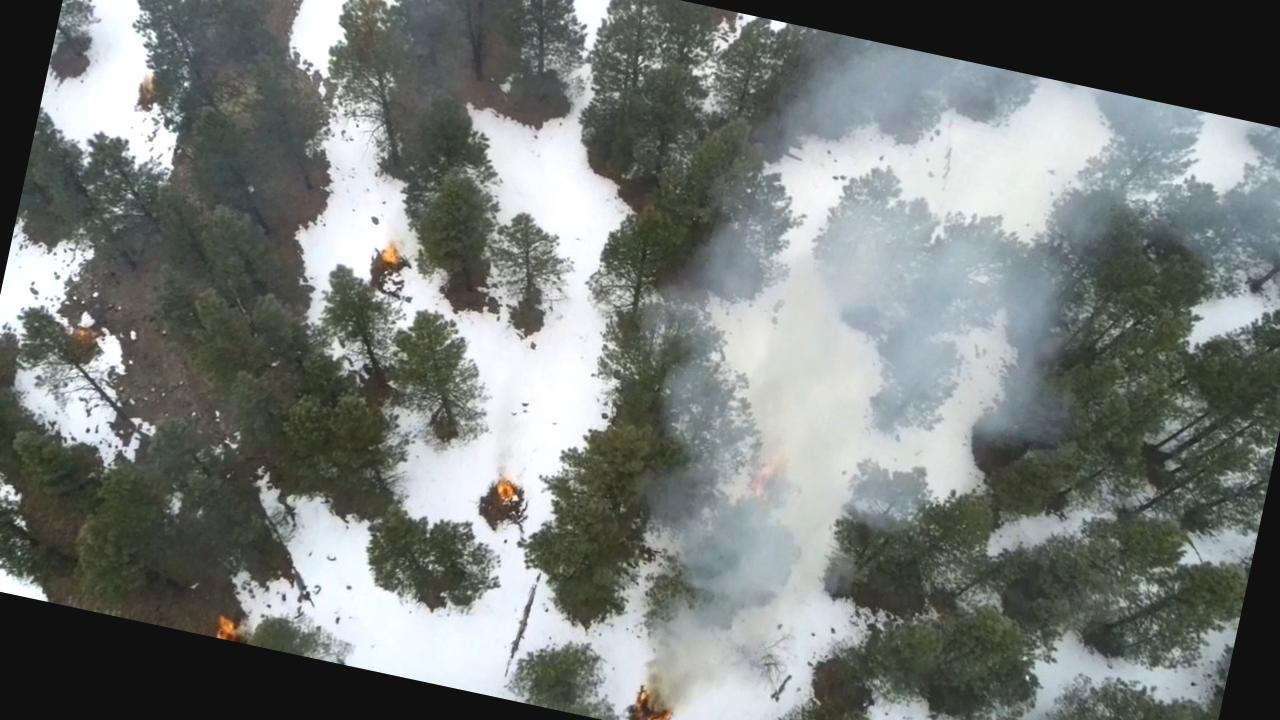fire: (744, 449, 792, 518), (628, 685, 676, 720), (488, 470, 526, 510), (371, 244, 404, 274)
smoke: (710, 19, 1280, 402), (641, 276, 1123, 634), (641, 560, 776, 668)
